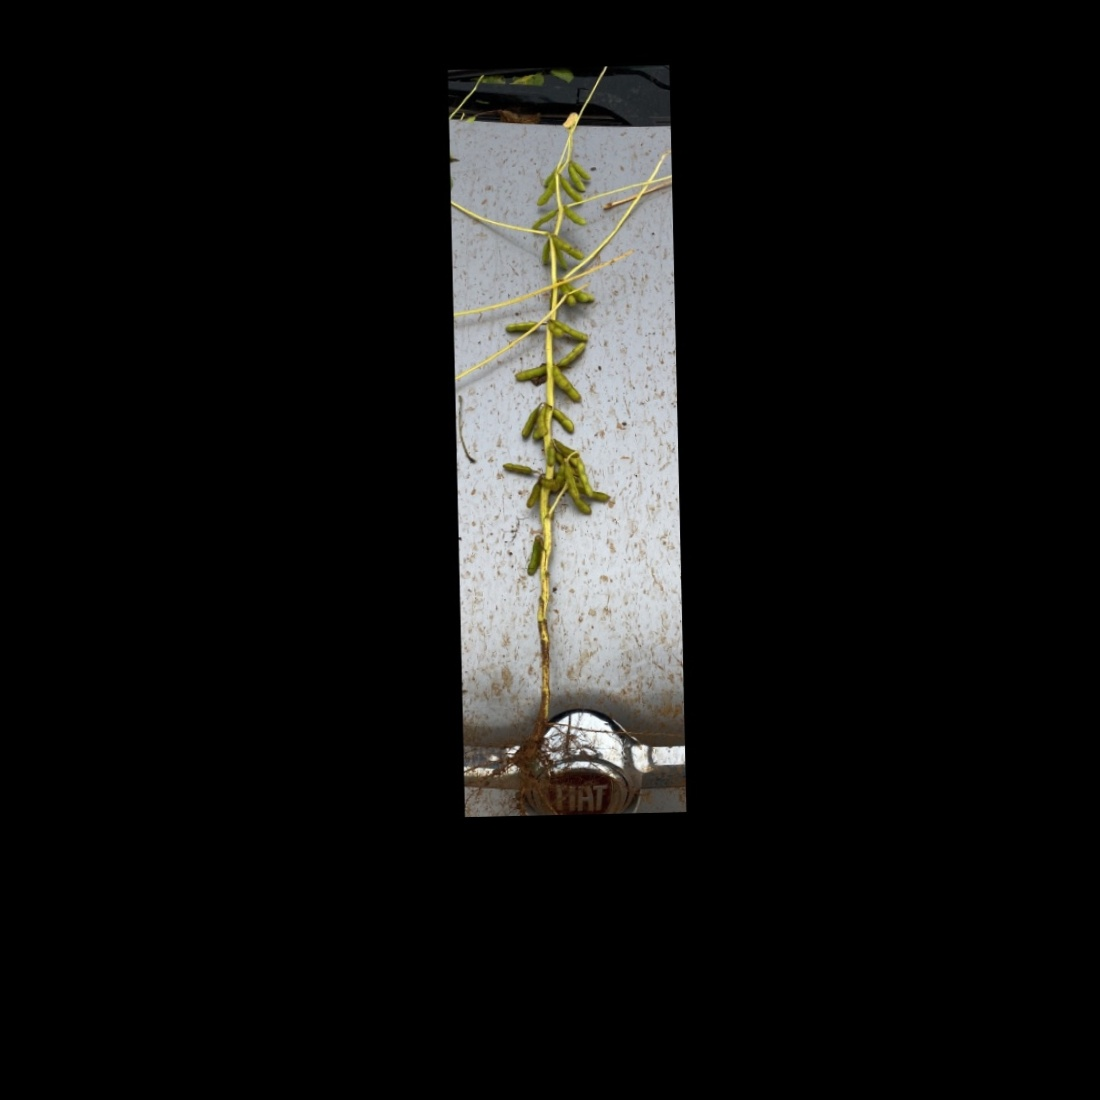pod: (529, 177, 558, 210), (552, 405, 579, 438), (523, 535, 544, 576), (553, 343, 588, 368), (508, 362, 546, 383), (561, 201, 588, 230), (528, 208, 560, 231), (498, 460, 537, 478), (502, 319, 544, 333), (524, 482, 539, 509), (540, 238, 552, 269)
soy: (473, 147, 628, 788)
